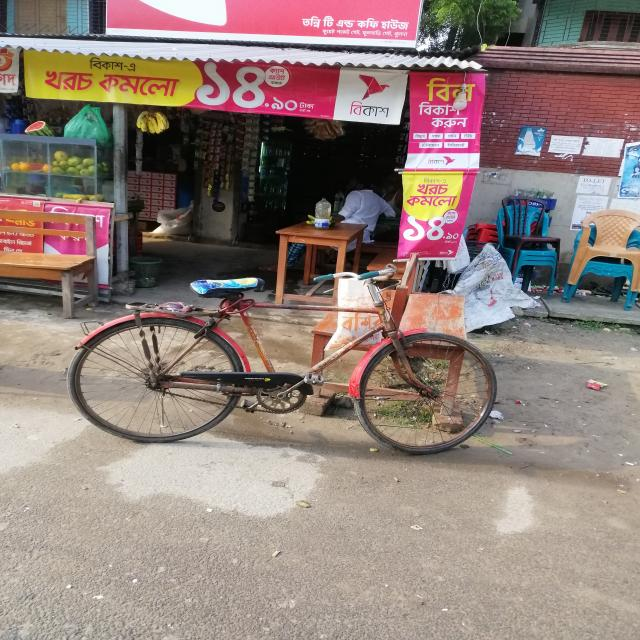Bicycle: (65, 274, 503, 461)
